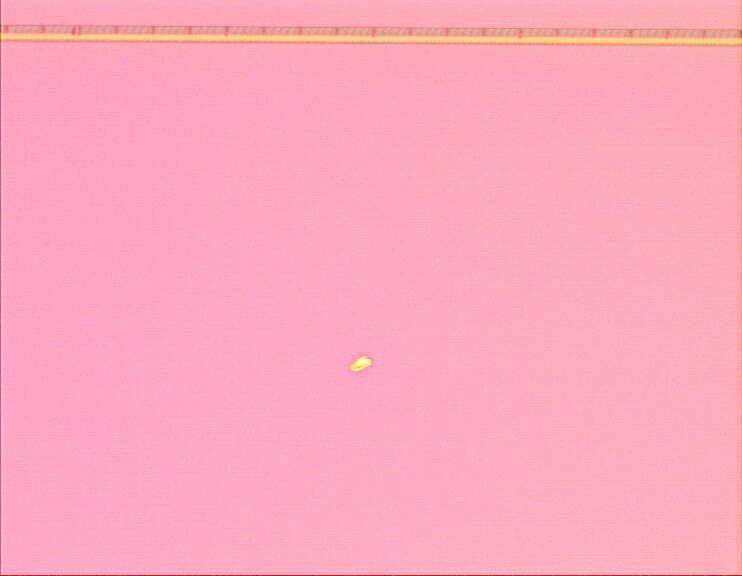BLOCK ETCH: (341, 344, 381, 384)
